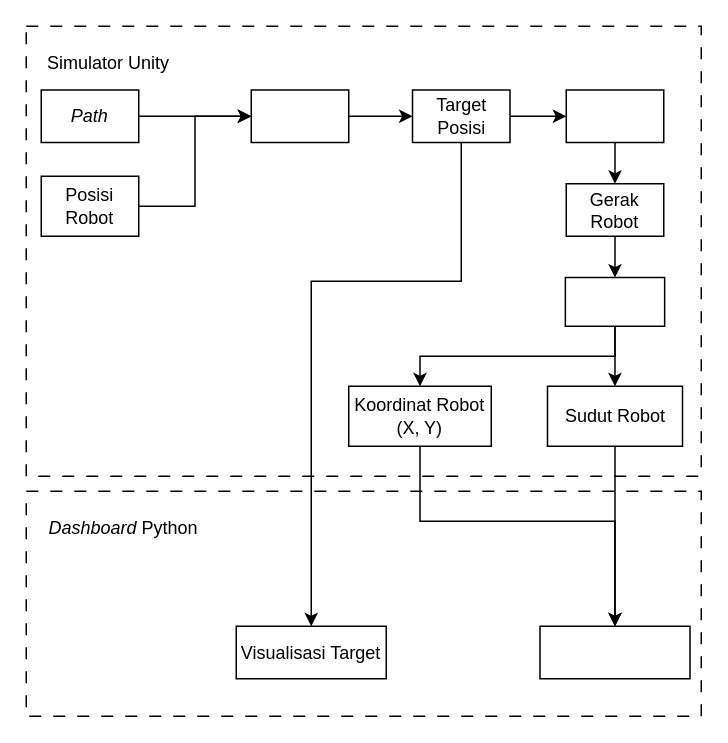
The diagram is 728 pixels wide and 743 high, and some of its shapes have lost their labels. The box of each missing label's shape, as (x1, y1, x2, y2) in pixels:
Inverse Kinematic: (565, 88, 664, 142)
Odometri: (564, 276, 665, 326)
Pure Pursuit: (250, 88, 349, 142)
Visualisasi Lintasan Jalur: (538, 625, 690, 679)
